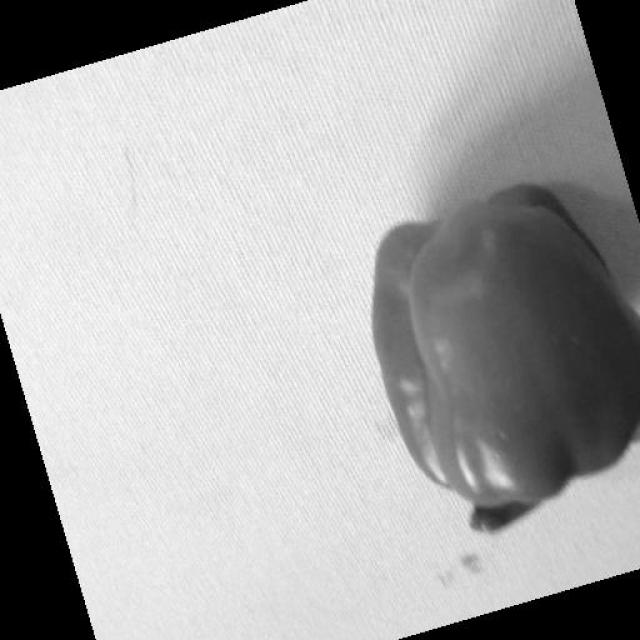Fresh_Capsicum: (337, 206, 640, 561)
